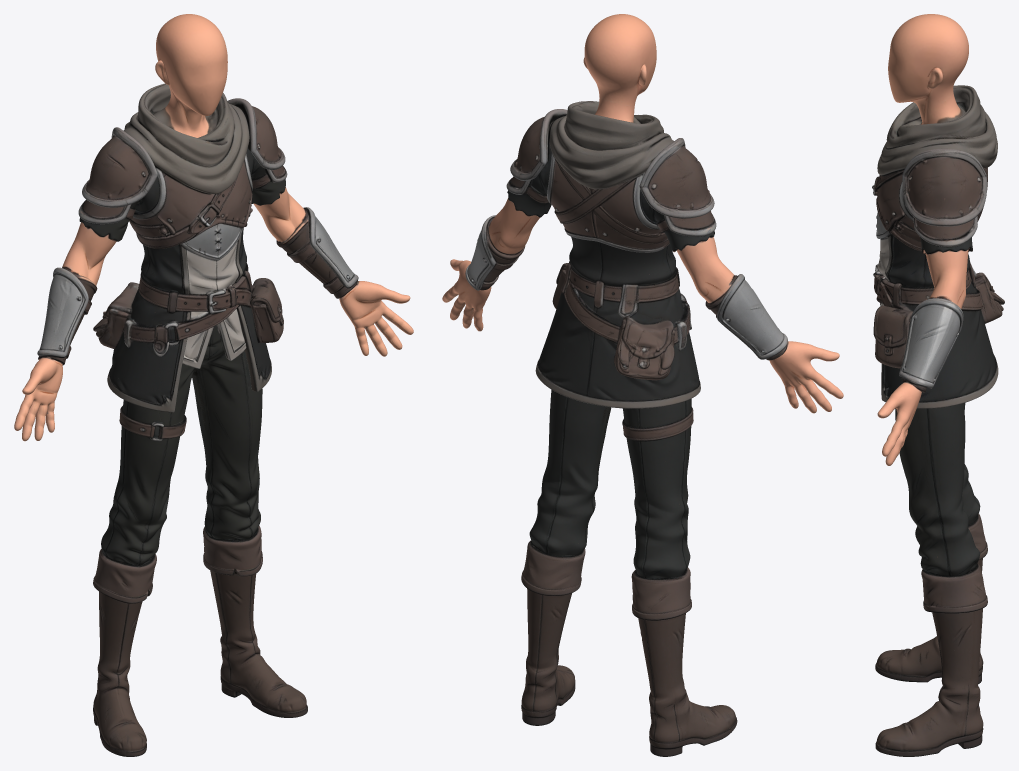
Rendered from MaleStarter.glb.
The picture shows the model from 3 angles, left to right: view 1: azimuth 30°, elevation 25°; view 2: azimuth 150°, elevation 25°; view 3: azimuth 270°, elevation 25°; orthographic projection.
Bounding box in the file's own units: 1.13 × 1.9 × 0.3298.
1 material, 1 textured.
